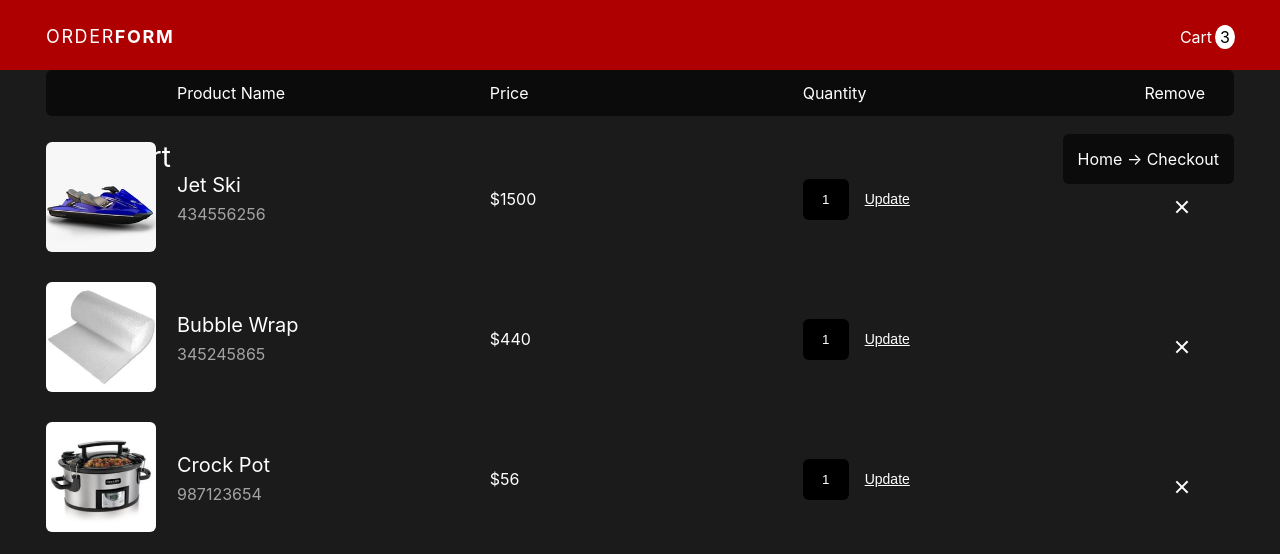
Test: App › actions › should remove an item
What coordinates should you click on to do the following:
click the button with test id "remove-item-0"
I would click on:
 (1180, 205)
Its box is top-left (1174, 204), bottom-right (1186, 206).
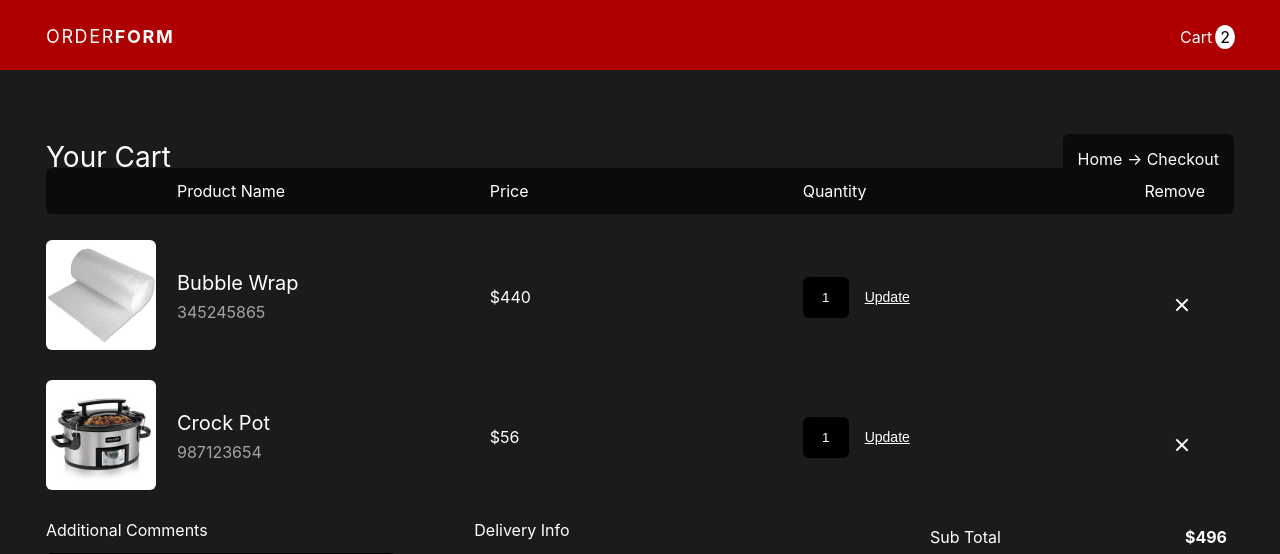
expect the text with test id "items-count" reads "2": met, box top-left (1220, 27), bottom-right (1230, 47)
